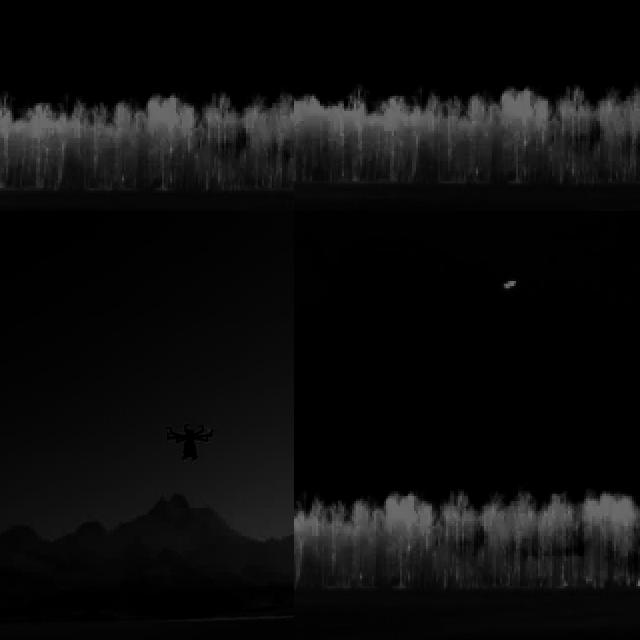1: (493, 272, 529, 302)
drone: (162, 418, 212, 464)
